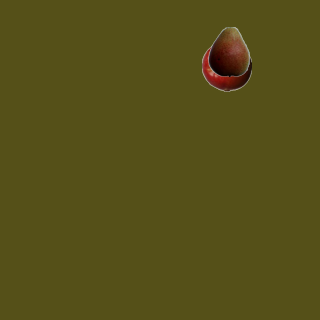Apple Braeburn: (201, 41, 251, 91)
Pear Forelle: (203, 26, 253, 76)
